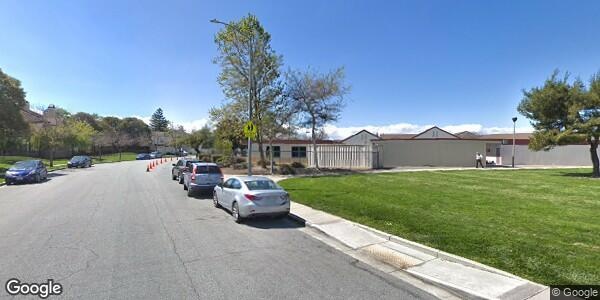Steel_Pole: (205, 17, 256, 178)
